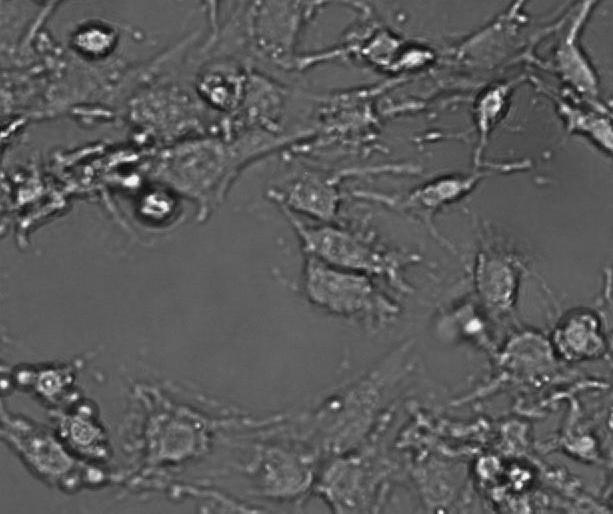Dead: (55, 417, 112, 458), (473, 76, 511, 137), (69, 19, 123, 60), (133, 182, 180, 226), (196, 71, 248, 106), (361, 28, 404, 69), (390, 40, 437, 71), (500, 460, 538, 497), (31, 365, 65, 400), (468, 452, 504, 485), (11, 364, 38, 390), (1, 371, 14, 400)
